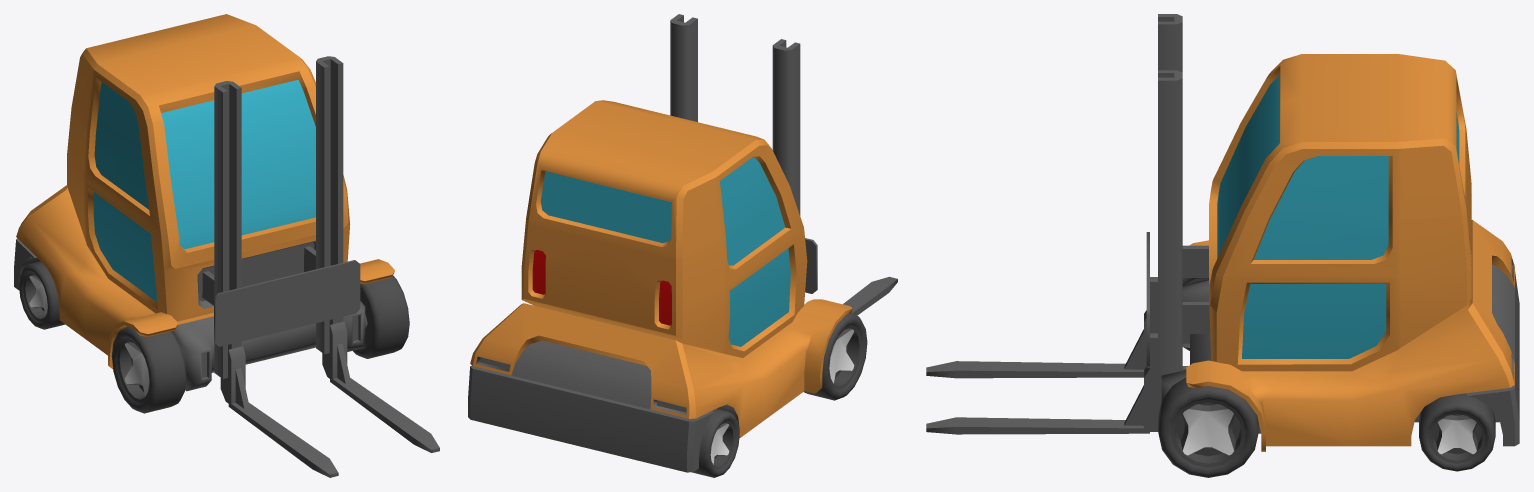
Rendered from Forklift.fbx.
3 views of the same model, side by side, from view 1: azimuth 30°, elevation 25°; view 2: azimuth 150°, elevation 25°; view 3: azimuth 270°, elevation 25° (orthographic). The views are drawn at different scales.
Visible parts, largest first — view 1: Forklift, ForkliftKaldirac, teker2.002, teker1, teker4.002; view 2: Forklift, teker2.002, teker4.002, ForkliftKaldirac; view 3: Forklift, ForkliftKaldirac, teker1, teker3.002.
Boxes of the visible parts, bbox=[...] form: Forklift: bbox=[14, 14, 394, 391]; ForkliftKaldirac: bbox=[214, 260, 439, 477]; teker2.002: bbox=[111, 327, 186, 413]; teker1: bbox=[353, 275, 409, 358]; teker4.002: bbox=[19, 261, 64, 329]; Forklift: bbox=[468, 14, 852, 472]; teker2.002: bbox=[804, 313, 867, 400]; teker4.002: bbox=[692, 408, 739, 477]; ForkliftKaldirac: bbox=[805, 238, 897, 315]; Forklift: bbox=[1158, 14, 1519, 451]; ForkliftKaldirac: bbox=[926, 232, 1160, 434]; teker1: bbox=[1158, 377, 1258, 477]; teker3.002: bbox=[1419, 393, 1495, 471].
Bounding box in the file's own units: 213 × 250 × 372.
